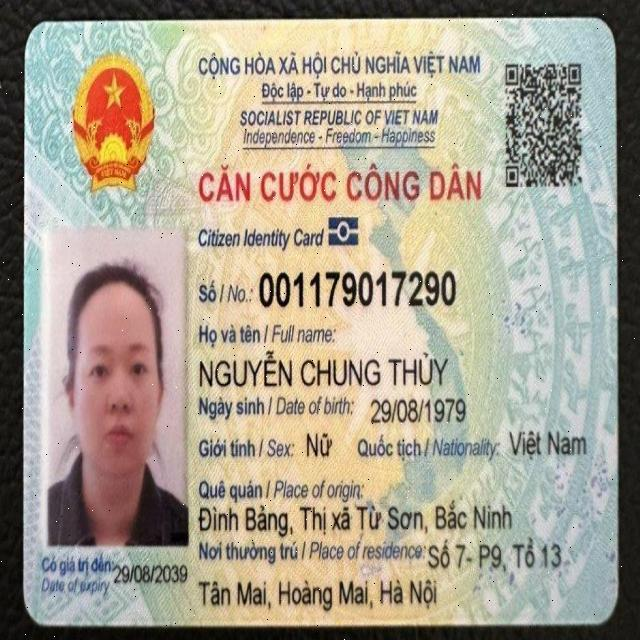current_place: (198, 569, 441, 614), (426, 536, 564, 574)
dob: (368, 396, 466, 427)
expire_date: (112, 560, 192, 587)
gender: (305, 428, 336, 462)
id: (258, 266, 457, 308)
name: (197, 350, 452, 388)
nationality: (505, 426, 595, 460)
origin_place: (198, 500, 516, 537)
